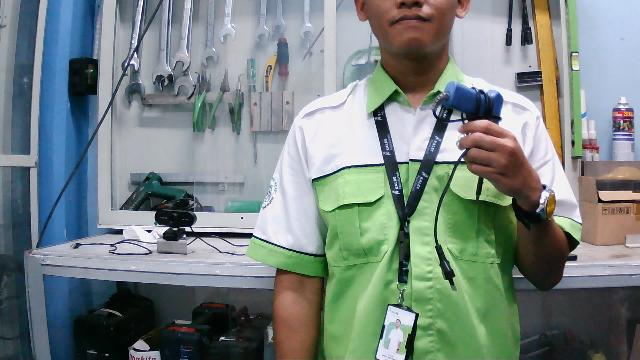solder_electrical: (428, 69, 503, 203)
